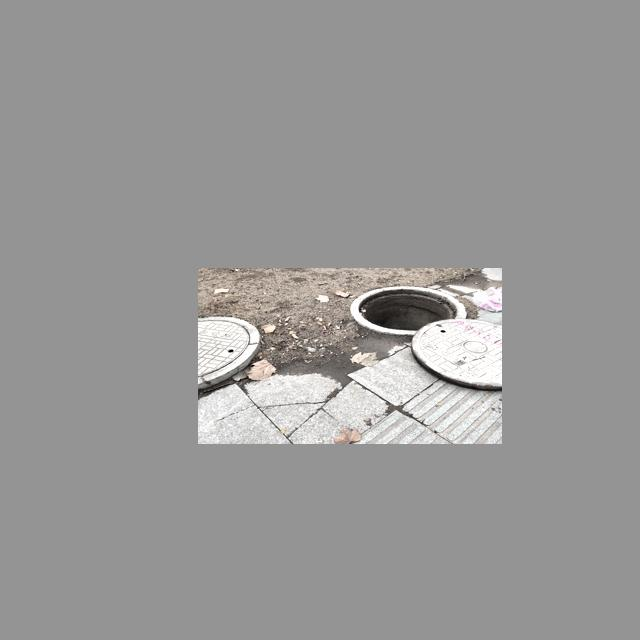good: (198, 316, 261, 390)
uncovered: (352, 285, 502, 390)
